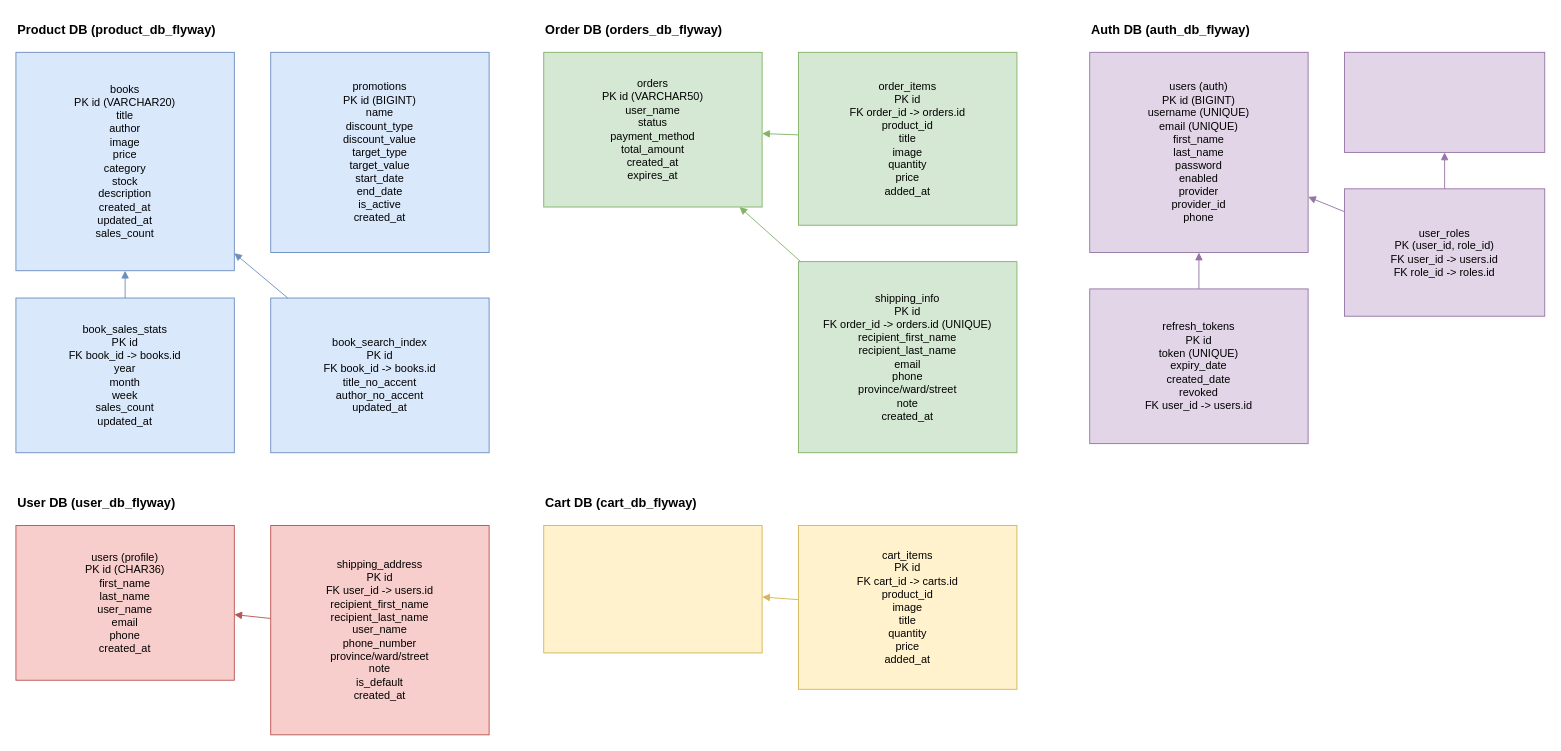
This 1561x751 diagram has some shape labels left out. Each missing label, with the centre of its shape:
carts PK id (VARCHAR36) user_name guest_id created_at updated_at: point 652,589
roles PK id name (UNIQUE): point 1444,101
